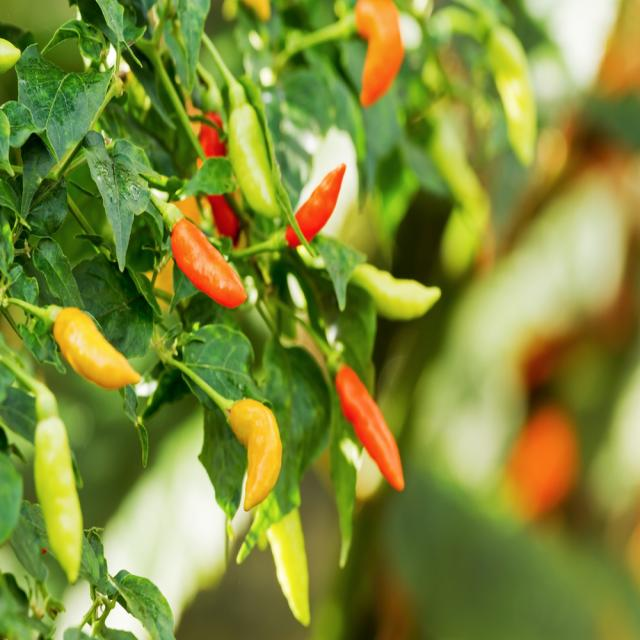Ripe: (335, 366, 404, 490), (171, 218, 246, 308), (284, 163, 346, 246)
Unripe: (35, 416, 82, 582), (52, 308, 140, 390), (229, 103, 281, 218), (229, 399, 282, 510)
